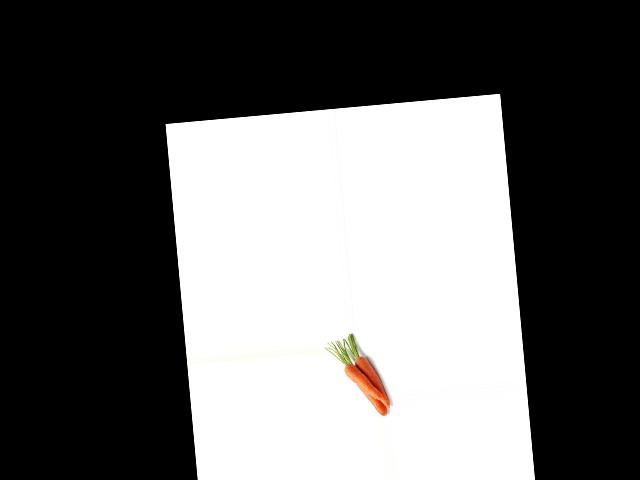carrot: (356, 380, 387, 417)
